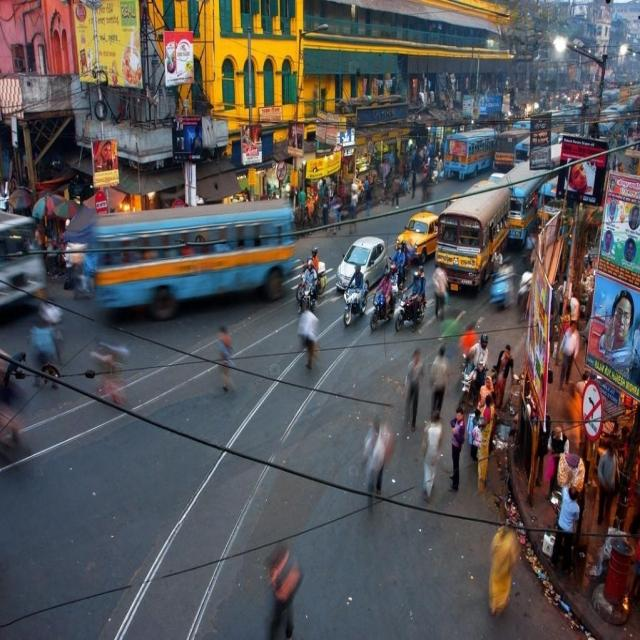bus: (435, 182, 510, 292), (445, 128, 496, 179)
car: (336, 236, 389, 292), (398, 214, 438, 262)
motorcycle: (395, 268, 426, 331), (370, 268, 396, 330), (344, 264, 368, 325)
